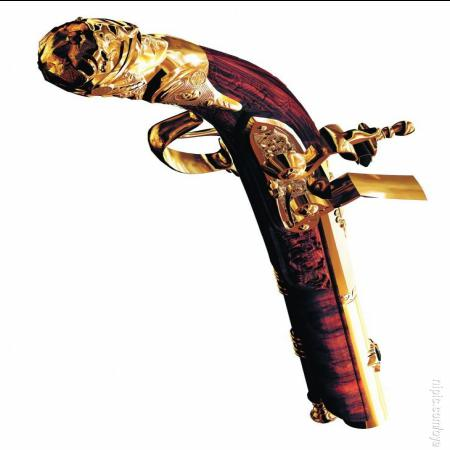Pistol: (37, 15, 429, 431)
